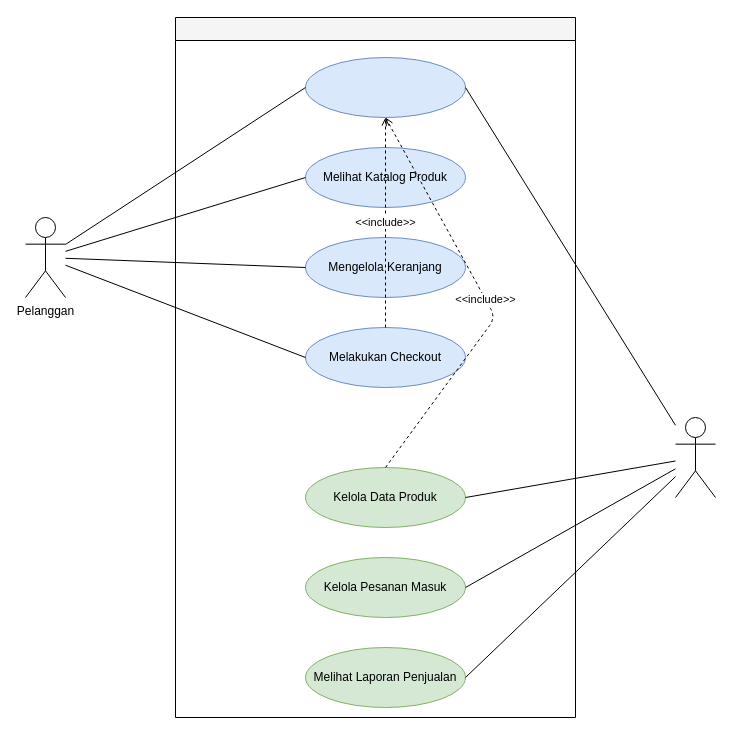
Image size: 744x735. Some labels were removed from this diagram. The box of each missing label's shape, as (x1, y1, x2, y2) in pixels:
Admin Toko: (674, 416, 716, 498)
Autentikasi (Login/Register): (304, 56, 466, 118)
Bakery E-Commerce System: (174, 16, 576, 718)
